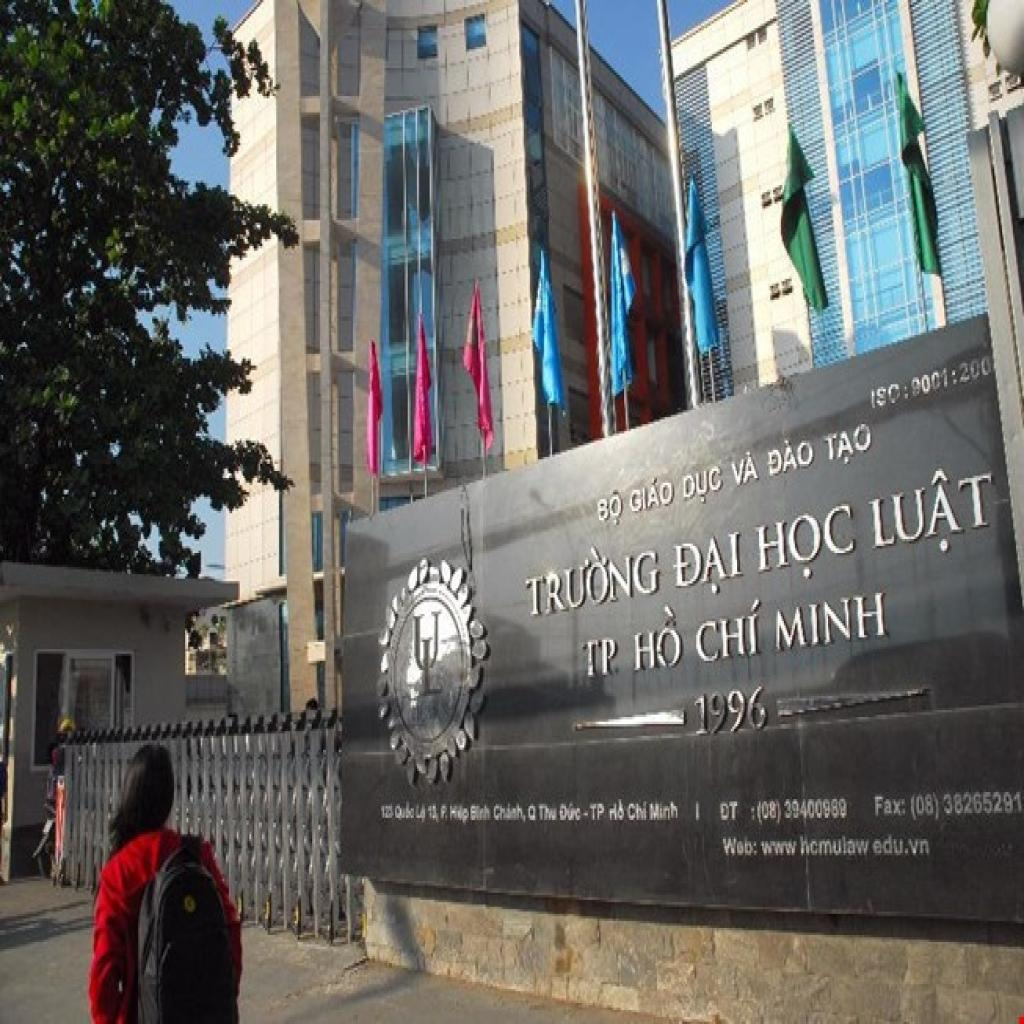text: (866, 452, 996, 576), (522, 530, 664, 626), (753, 497, 861, 593), (773, 584, 892, 658), (671, 527, 750, 605), (693, 593, 765, 670), (692, 679, 772, 743), (908, 787, 1024, 825), (630, 602, 687, 677), (756, 794, 851, 828), (764, 429, 818, 485), (820, 420, 875, 474), (629, 468, 676, 522), (682, 459, 726, 513), (577, 630, 621, 684), (411, 604, 444, 675), (797, 832, 872, 862), (910, 364, 961, 406), (870, 832, 933, 862), (420, 635, 447, 701), (869, 375, 911, 417), (726, 448, 764, 492), (956, 351, 996, 389), (596, 485, 626, 530), (721, 834, 759, 862), (492, 799, 530, 827), (873, 792, 908, 822), (759, 837, 800, 860), (558, 799, 585, 827), (469, 799, 494, 827), (626, 799, 649, 827), (718, 799, 742, 825), (448, 799, 470, 827), (607, 797, 627, 827), (394, 799, 417, 825), (538, 799, 560, 825), (588, 799, 607, 825), (414, 799, 428, 827), (426, 802, 440, 828), (527, 802, 539, 830), (380, 802, 396, 822), (439, 801, 450, 825)
